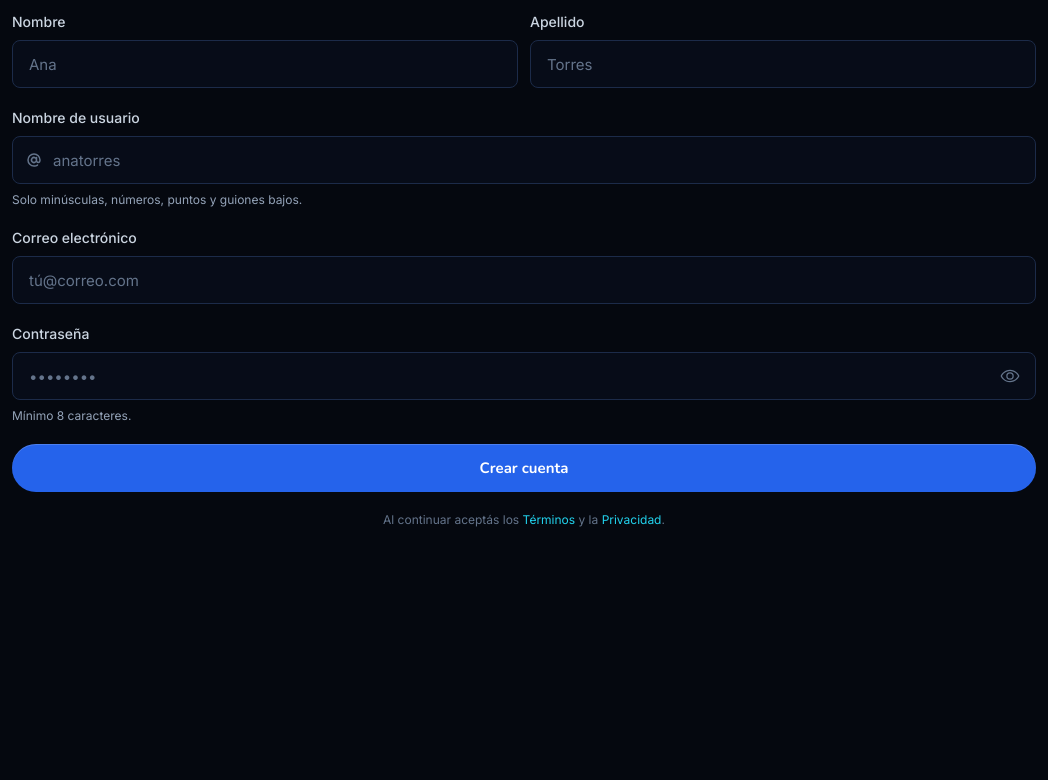
Test: RegisterForm › el medidor de la contraseña aparece recién al escribirla
Expected: the text "Al menos un número" is not shown
In the password field labelled "Contraseña": (524, 376) [12,352,1036,400], type "clave"
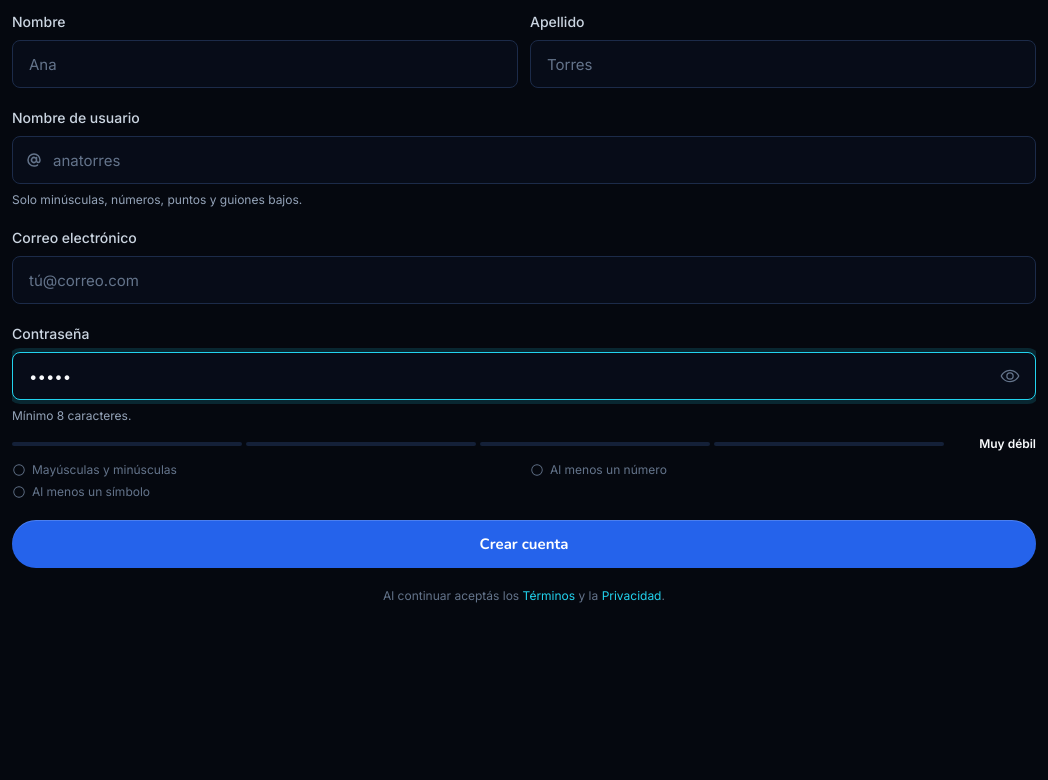
Expected: the list item "Al menos un número" is shown, [530,462,667,477]
